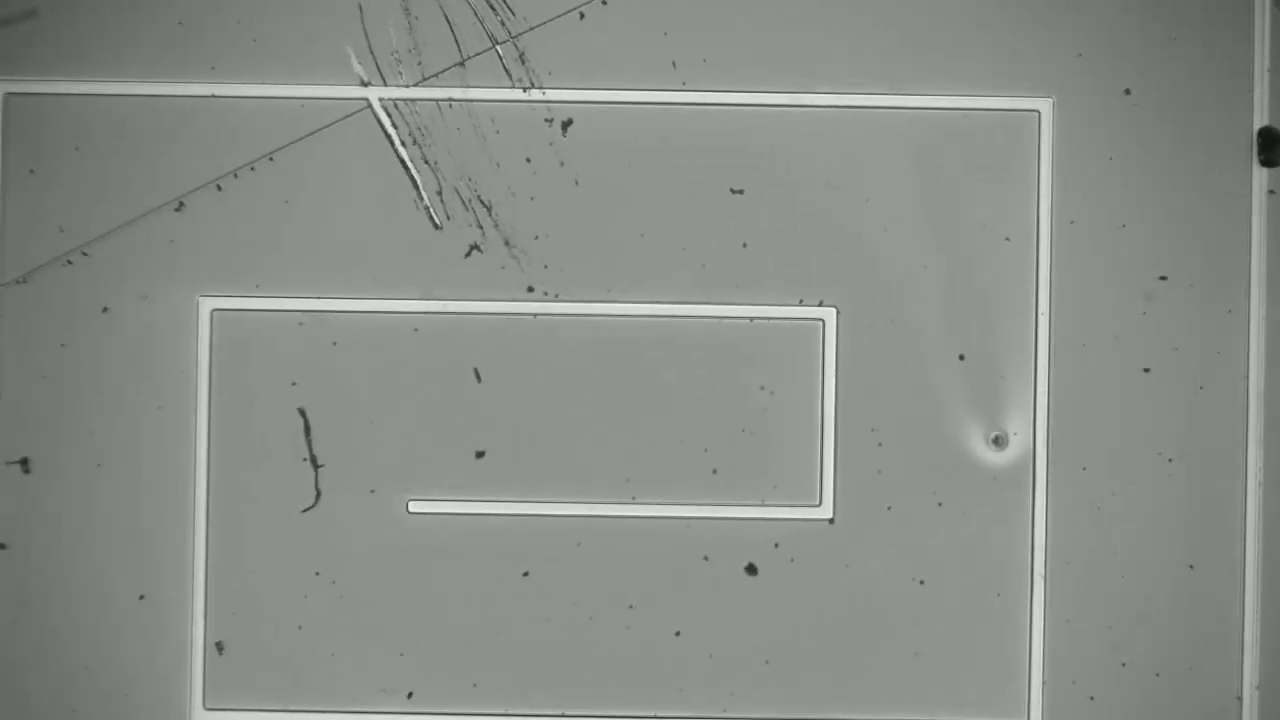scratch: (22, 4, 603, 281), (352, 54, 447, 225), (366, 10, 448, 204), (490, 6, 554, 95), (466, 3, 524, 88)
stains_enbedded: (1243, 106, 1280, 184)
